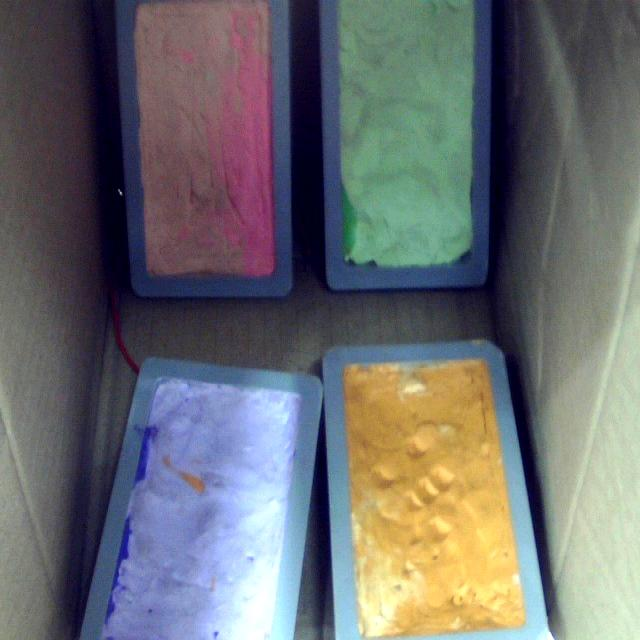block: (72, 351, 326, 640), (322, 341, 551, 638), (111, 2, 291, 299), (320, 5, 493, 293)
